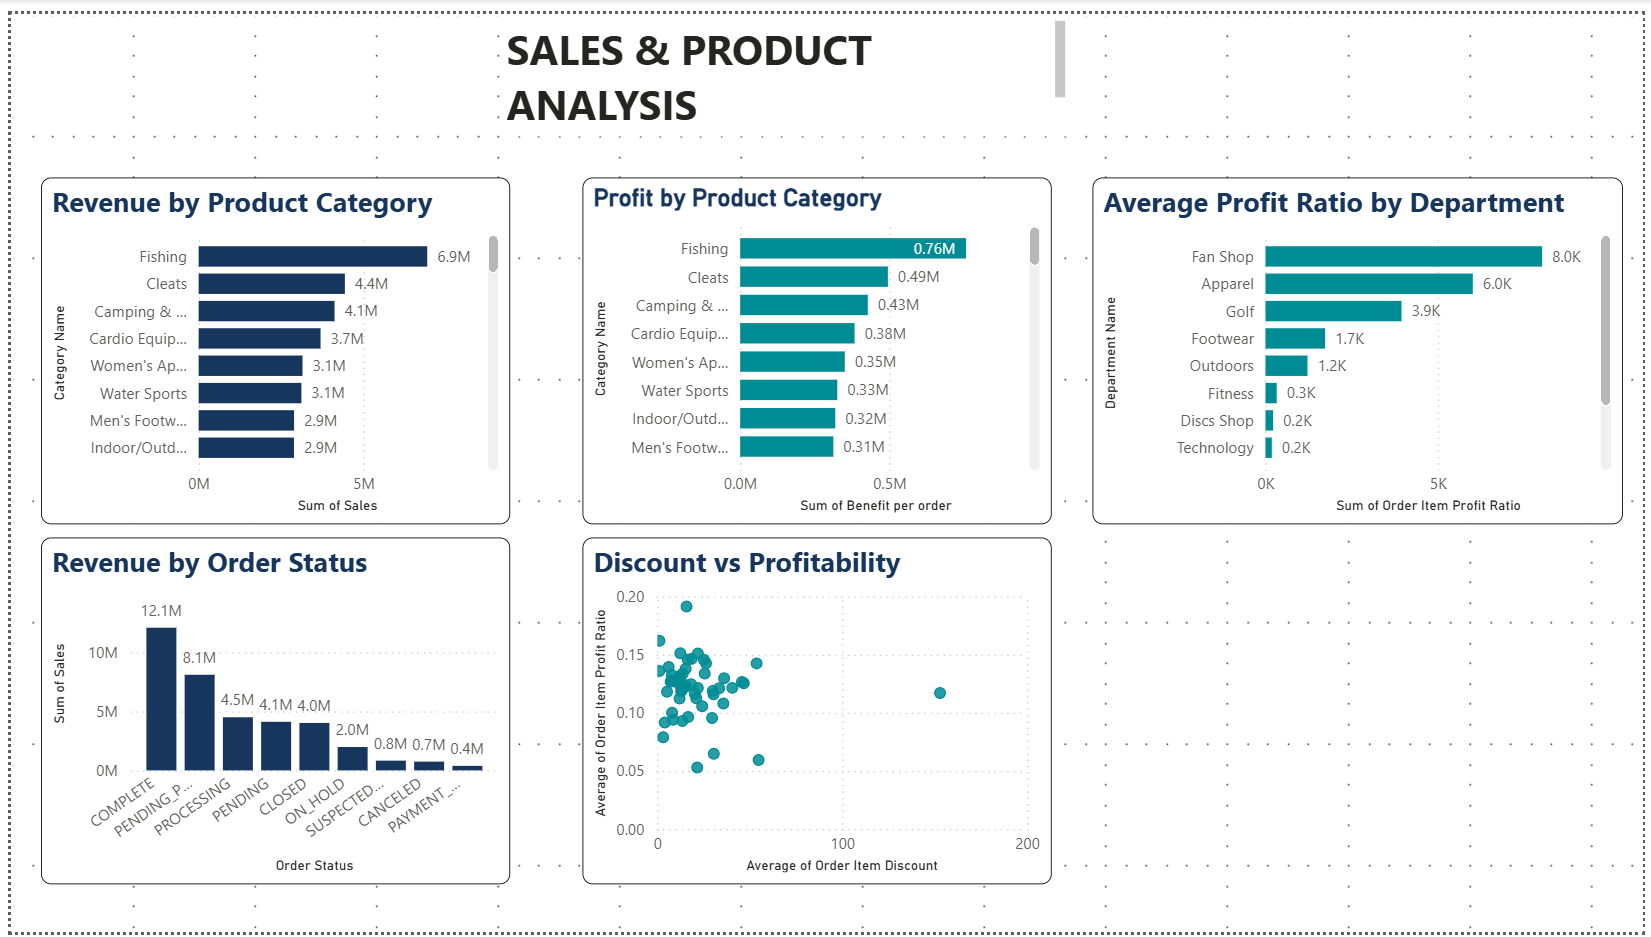

Layout of this report page (visuals, bound fields, positions):
{"tool":"powerbi","page":{"name":"Sales & Product Analysis","canvas":[1280,720],"ordinal":1},"visuals":[{"type":"textbox","box":[192,0,1080,96],"z":0},{"type":"clusteredBarChart","title":"Revenue by Product Category","fields":{"Category":["public supply_chain.Category Name"],"Y":["Sum(public supply_chain.Sales)"]},"box":[24,128,368,272],"z":1},{"type":"clusteredBarChart","title":"Profit by Product Category","fields":{"Category":["public supply_chain.Category Name"],"Y":["Sum(public supply_chain.Benefit per order)"]},"box":[448,128,368,272],"z":2},{"type":"clusteredColumnChart","title":"Revenue by Order Status","fields":{"Category":["public supply_chain.Order Status"],"Y":["Sum(public supply_chain.Sales)"]},"box":[24,410,368,272],"z":3},{"type":"scatterChart","title":"Discount vs Profitability","fields":{"Category":["public supply_chain.Category Name"],"X":["Avg(public supply_chain.Order Item Discount)"],"Y":["Avg(public supply_chain.Order Item Profit Ratio)"]},"box":[448,410,368,272],"z":4},{"type":"clusteredBarChart","title":"Average Profit Ratio by Department","fields":{"Category":["public supply_chain.Department Name"],"Y":["Sum(public supply_chain.Order Item Profit Ratio)"]},"box":[848,128,416,272],"z":5}]}

Visuals, with their boxes in screenshot pixels (x1, y1, x2, y2), scaled from the page's 1280x720 canvas onto the 1651x937 screenshot:
textbox: crop(248, 0, 1641, 125)
"Revenue by Product Category" clusteredBarChart: crop(31, 167, 506, 521)
"Profit by Product Category" clusteredBarChart: crop(578, 167, 1053, 521)
"Revenue by Order Status" clusteredColumnChart: crop(31, 534, 506, 888)
"Discount vs Profitability" scatterChart: crop(578, 534, 1053, 888)
"Average Profit Ratio by Department" clusteredBarChart: crop(1094, 167, 1630, 521)
